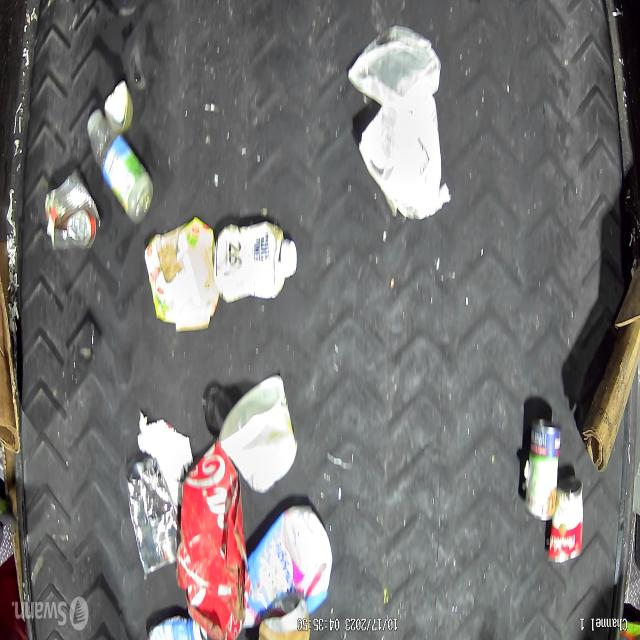can: (126, 456, 180, 575), (48, 169, 101, 252), (524, 418, 563, 522), (549, 480, 584, 565)
non_white_jug: (246, 502, 332, 619)
plastic_bottle: (84, 112, 154, 226)
